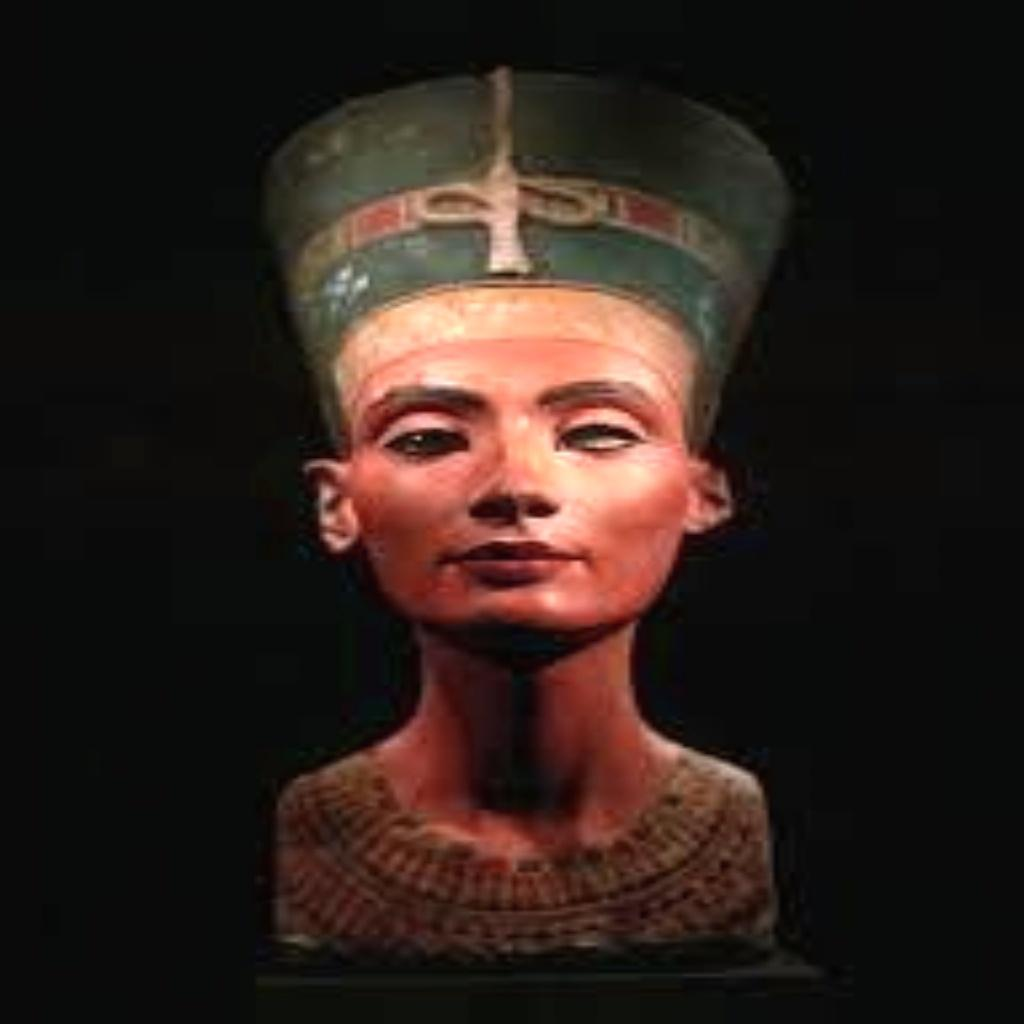Nefertiti: (250, 58, 806, 968)
